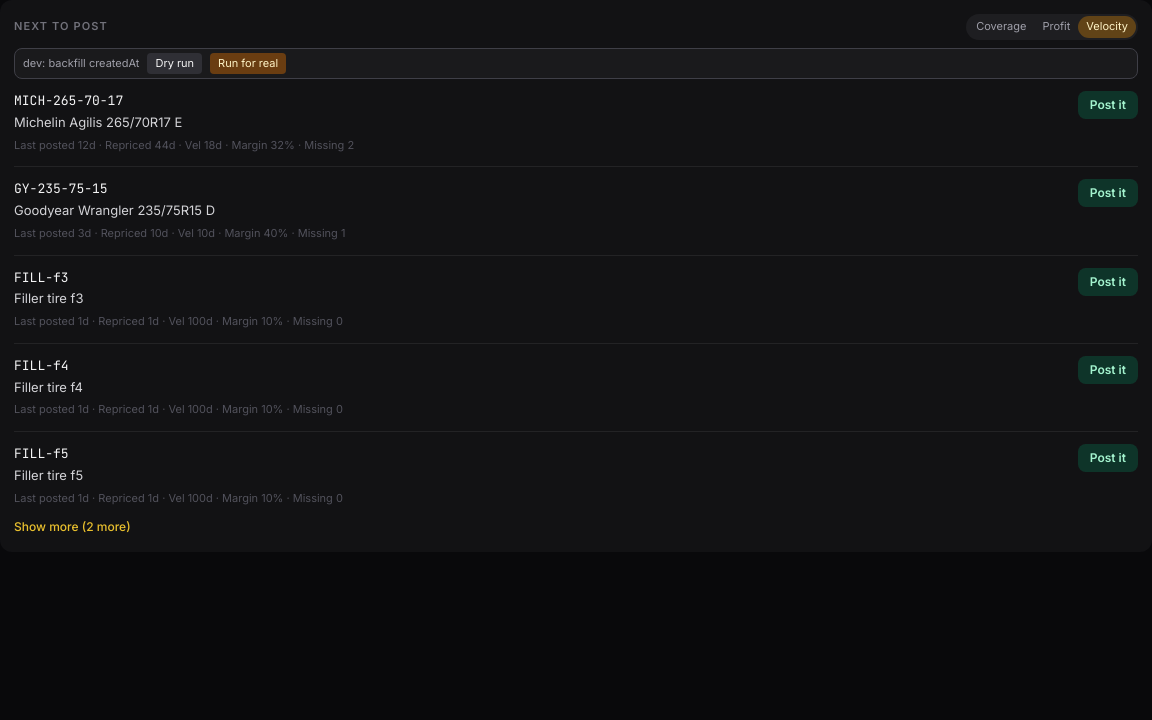
Test case: NextToPostSurface › "Show more" opens the modal with full ranked list
The width and height of the screenshot is (1152, 720).
Click the button "Show more (2 more)". click: point(72, 527)
box: x1=14 y1=519 x2=131 y2=535
(page scrolled)
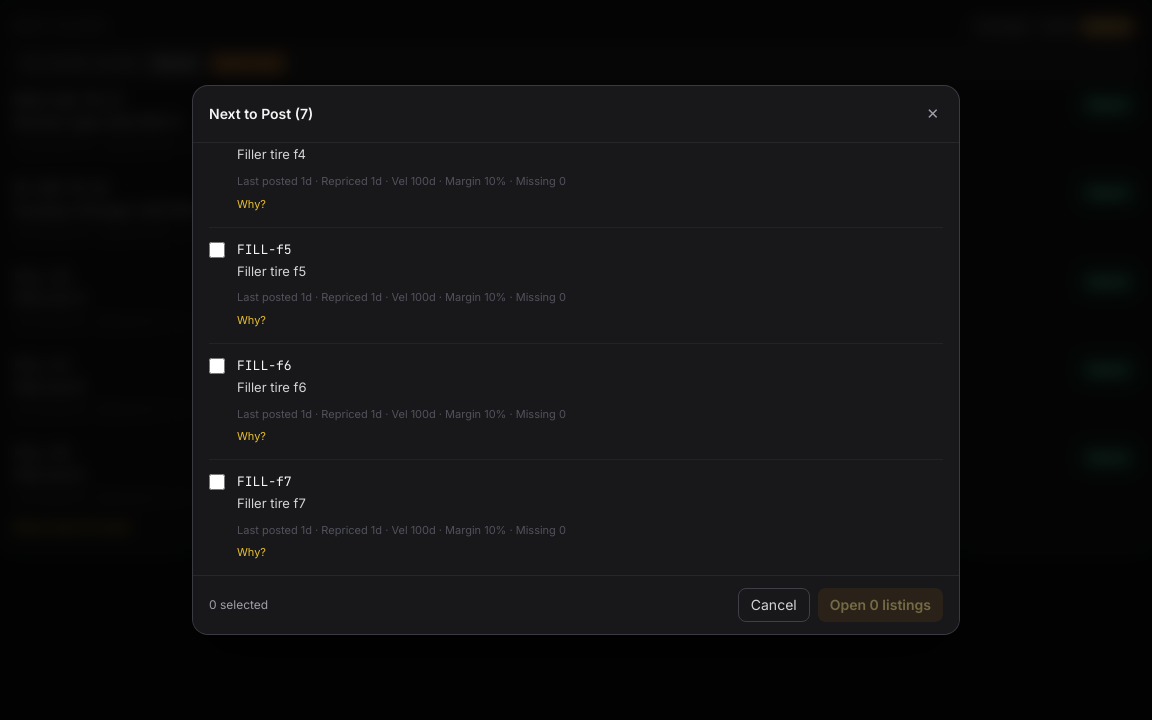
Expected: the dialog "Next to Post" is shown, x1=192 y1=85 x2=960 y2=635
Expected: the text "FILL-f7" is shown, x1=237 y1=473 x2=292 y2=490
